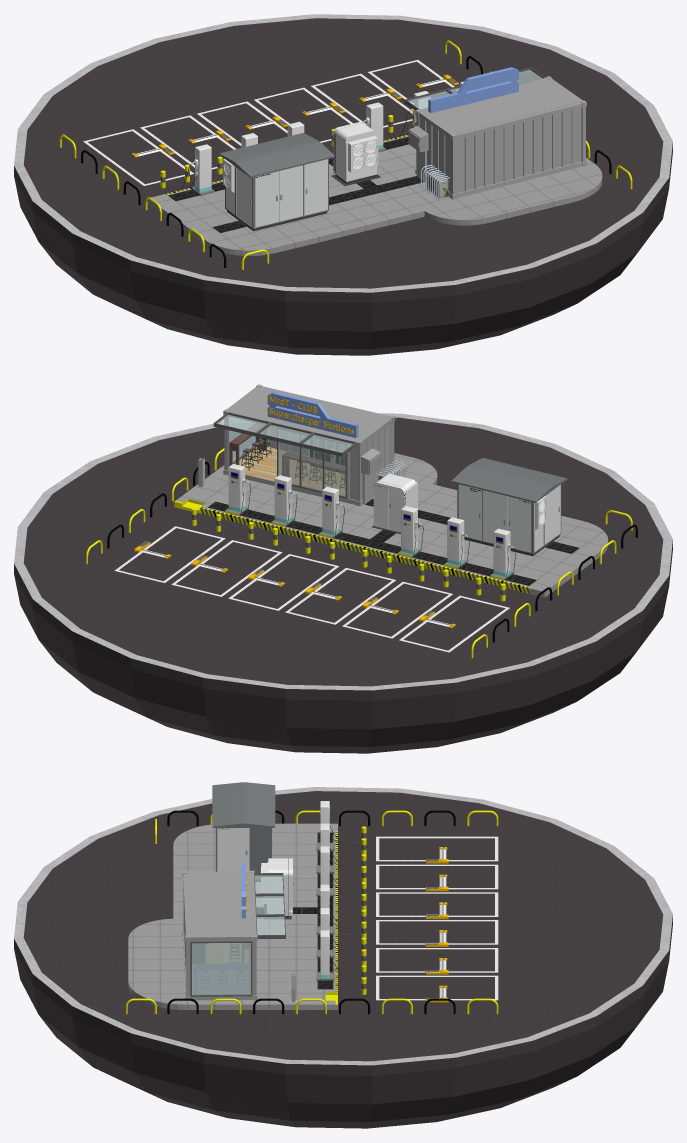
Rendered from new_energy_vehicle_charging_station.glb.
3 renders of one model, top to bottom at view 1: azimuth 30°, elevation 25°; view 2: azimuth 150°, elevation 25°; view 3: azimuth 270°, elevation 25°, orthographic.
Visible parts, largest first — view 1: Material3 (×4), Material2 (×14); view 2: Material3 (×4), Material2 (×17); view 3: Material3 (×4), Material2 (×15).
Boxes of the visible parts, x1,y1,x2,y2 form: Material3 (×4): (14, 14, 672, 355); Material2 (×14): (59, 40, 632, 269); Material3 (×4): (14, 413, 672, 753); Material2 (×17): (86, 384, 637, 658); Material3 (×4): (14, 787, 672, 1128); Material2 (×15): (125, 782, 498, 1014).
Size of what is drawn, in the model's own units: 953 by 328 by 953.
Materials: 52 (20 with a texture image).
